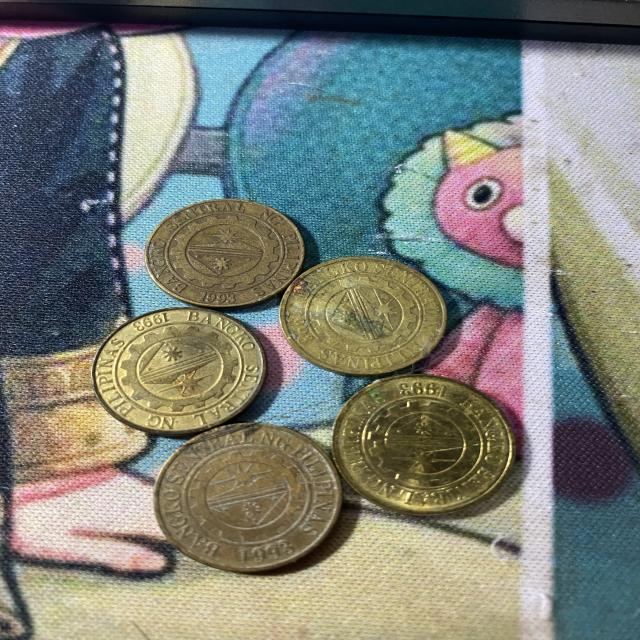25Cent_Old_Back: (161, 426, 329, 568), (338, 381, 501, 504), (289, 255, 443, 370), (100, 315, 251, 428), (150, 199, 304, 308)
